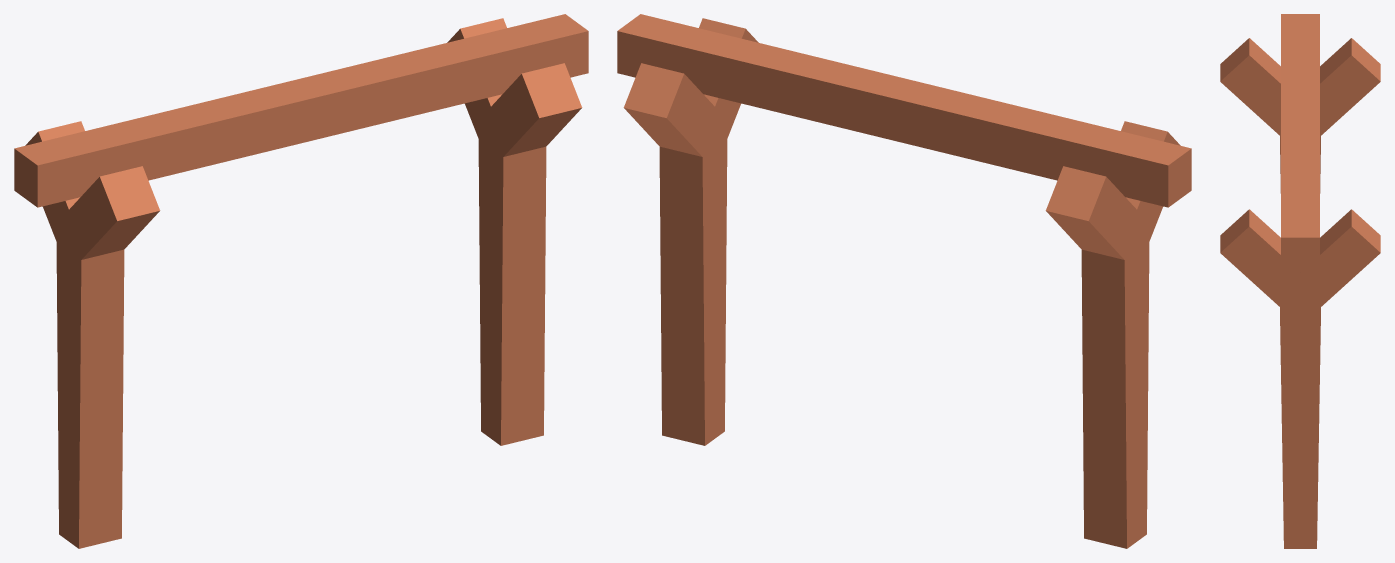
File: campfire-stand.obj
3 views of the same model, side by side, from view 1: azimuth 30°, elevation 25°; view 2: azimuth 150°, elevation 25°; view 3: azimuth 270°, elevation 25° (orthographic). The views are drawn at different scales.
Size of the model in its own units: 0.41 by 0.281 by 0.1244.
